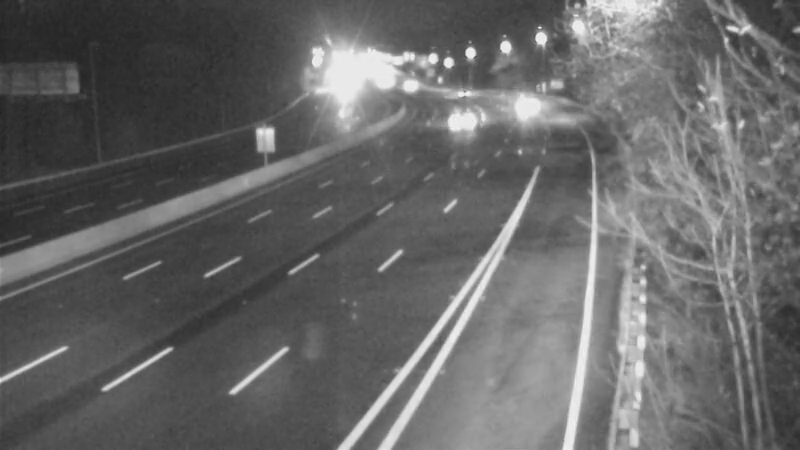vehicle: (384, 61, 434, 111), (441, 68, 491, 118), (499, 78, 549, 128), (434, 96, 484, 146)
